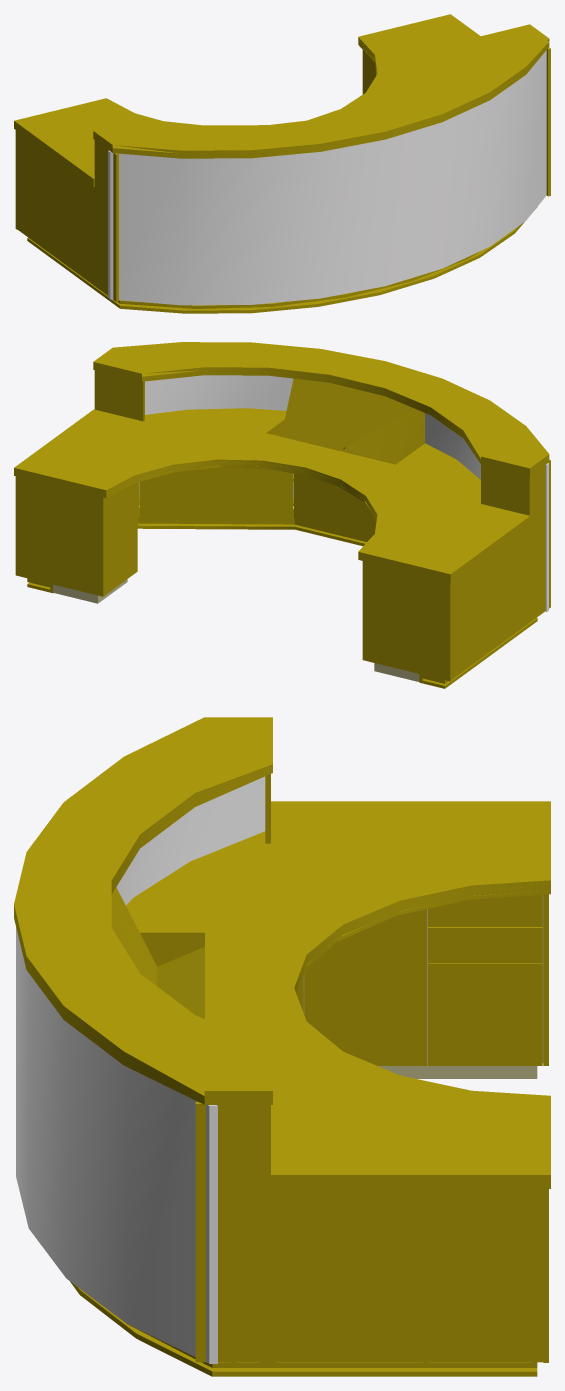
Rendered from reception_desk.glb.
The picture shows the model from 3 angles, top to bottom: view 1: azimuth 30°, elevation 25°; view 2: azimuth 150°, elevation 25°; view 3: azimuth 270°, elevation 25°; orthographic projection. The views are drawn at different scales.
Visible parts, largest first — view 1: Object_6, Object_506, Object_488, Object_510, Object_512, Object_501, Object_508, Object_498, Object_433, Object_445, Object_443, Object_453 (+4 smaller); view 2: Object_488, Object_506, Object_237, Object_239, Object_478, Object_510, Object_616, Object_16, Object_449, Object_30, Object_512, Object_622 (+15 smaller); view 3: Object_488, Object_451, Object_6, Object_506, Object_453, Object_35, Object_21, Object_11, Object_23, Object_25, Object_612, Object_8 (+17 smaller).
Boxes of the visible parts, x1,y1,x2,y2 form: Object_6: [110, 50, 546, 305]; Object_506: [93, 24, 549, 150]; Object_488: [14, 14, 480, 181]; Object_510: [17, 131, 94, 285]; Object_512: [94, 140, 118, 301]; Object_501: [112, 42, 549, 156]; Object_508: [116, 43, 547, 153]; Object_498: [112, 45, 549, 158]; Object_433: [120, 232, 510, 308]; Object_445: [120, 292, 379, 313]; Object_443: [105, 290, 379, 313]; Object_453: [546, 47, 550, 196]; Object_488: [14, 408, 530, 577]; Object_506: [93, 342, 549, 471]; Object_237: [362, 561, 451, 681]; Object_239: [15, 476, 104, 596]; Object_478: [281, 378, 423, 464]; Object_510: [452, 525, 529, 679]; Object_616: [140, 467, 293, 518]; Object_16: [145, 375, 293, 414]; Object_449: [294, 473, 376, 537]; Object_30: [105, 482, 137, 594]; Object_512: [526, 459, 550, 622]; Object_622: [97, 371, 144, 421]; Object_488: [126, 801, 550, 1180]; Object_451: [271, 1189, 543, 1362]; Object_6: [16, 927, 209, 1363]; Object_506: [14, 717, 272, 1096]; Object_453: [195, 1101, 270, 1362]; Object_35: [304, 909, 426, 1065]; Object_21: [428, 963, 542, 1065]; Object_11: [116, 776, 265, 905]; Object_23: [428, 927, 542, 962]; Object_25: [428, 895, 542, 926]; Object_612: [265, 1368, 537, 1376]; Object_8: [208, 1105, 217, 1363].
Size of the model in its own units: 115 by 42 by 69.52.
Materials: 1 (1 with a texture image).
